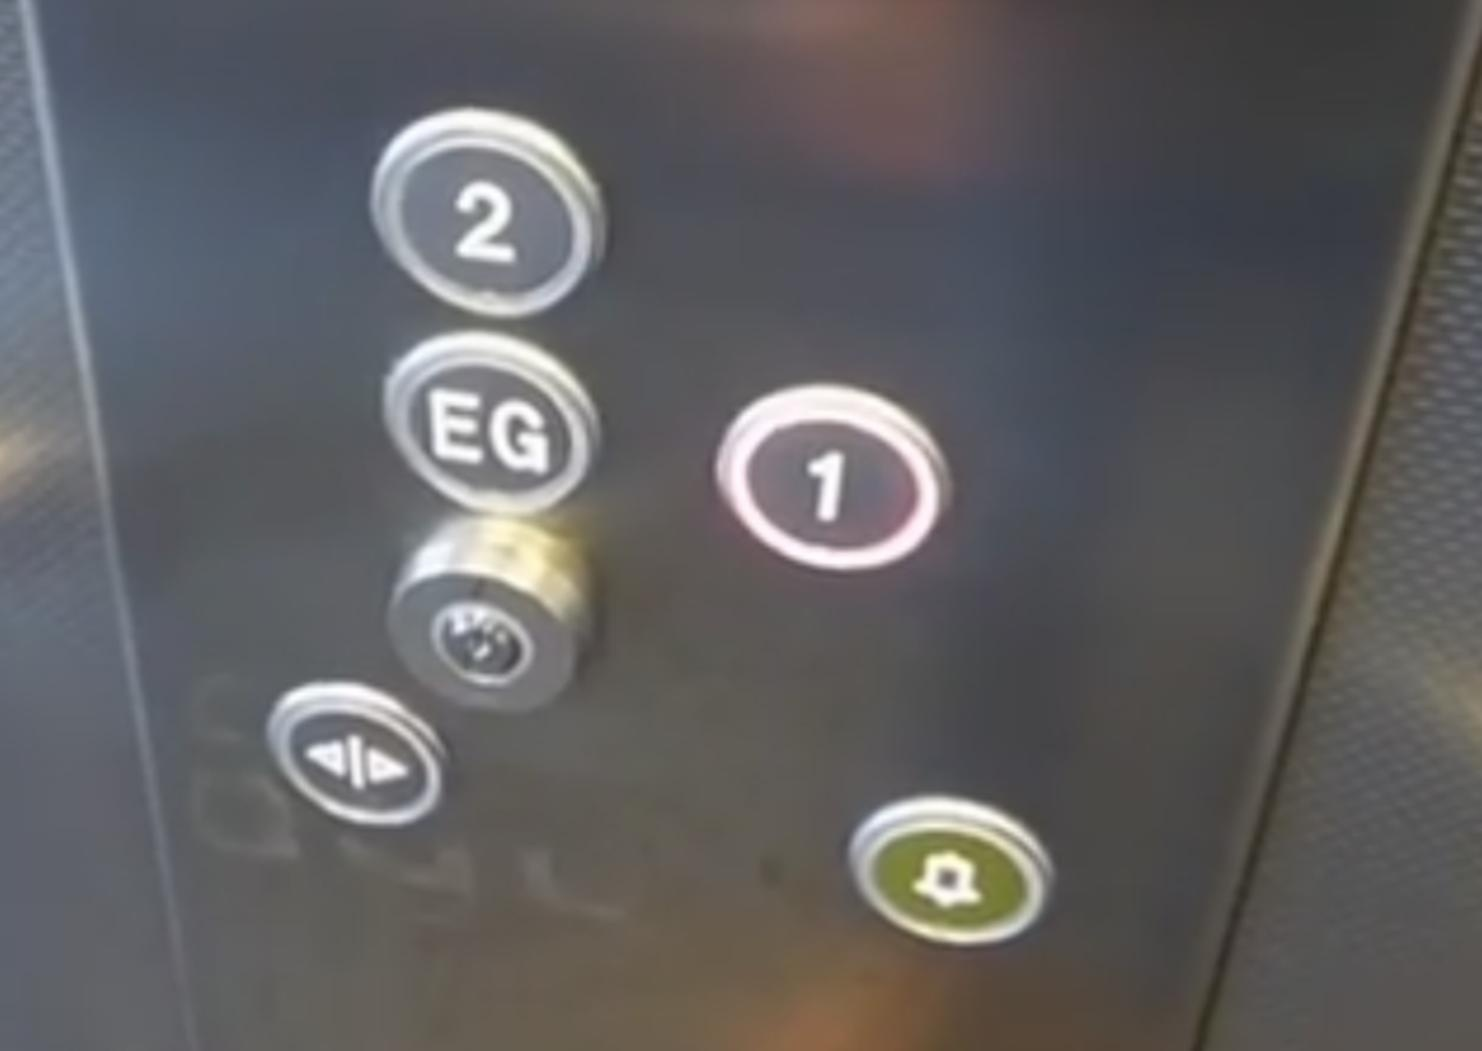1: (707, 376, 957, 580)
2: (367, 104, 611, 317)
EG: (378, 331, 603, 519)
alarm: (842, 787, 1059, 958)
keyhole: (382, 522, 601, 722)
open: (260, 675, 457, 838)
